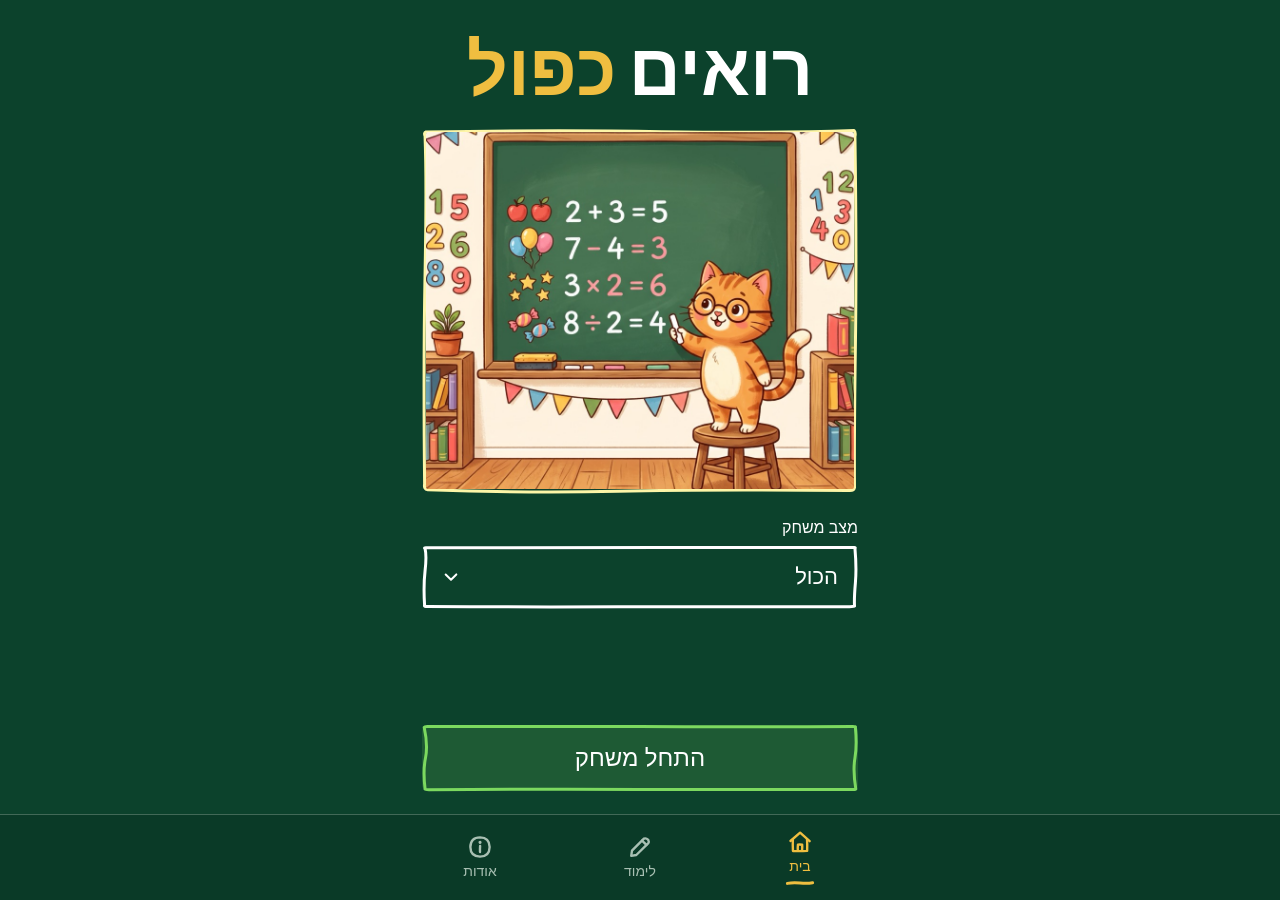
Test case: App shell navigation › opening "לימוד" with no game starts one in the mode picked on home
Select "4" in the dropdown labelled "מצב משחק" at [640, 577], box [422,547,858,607]
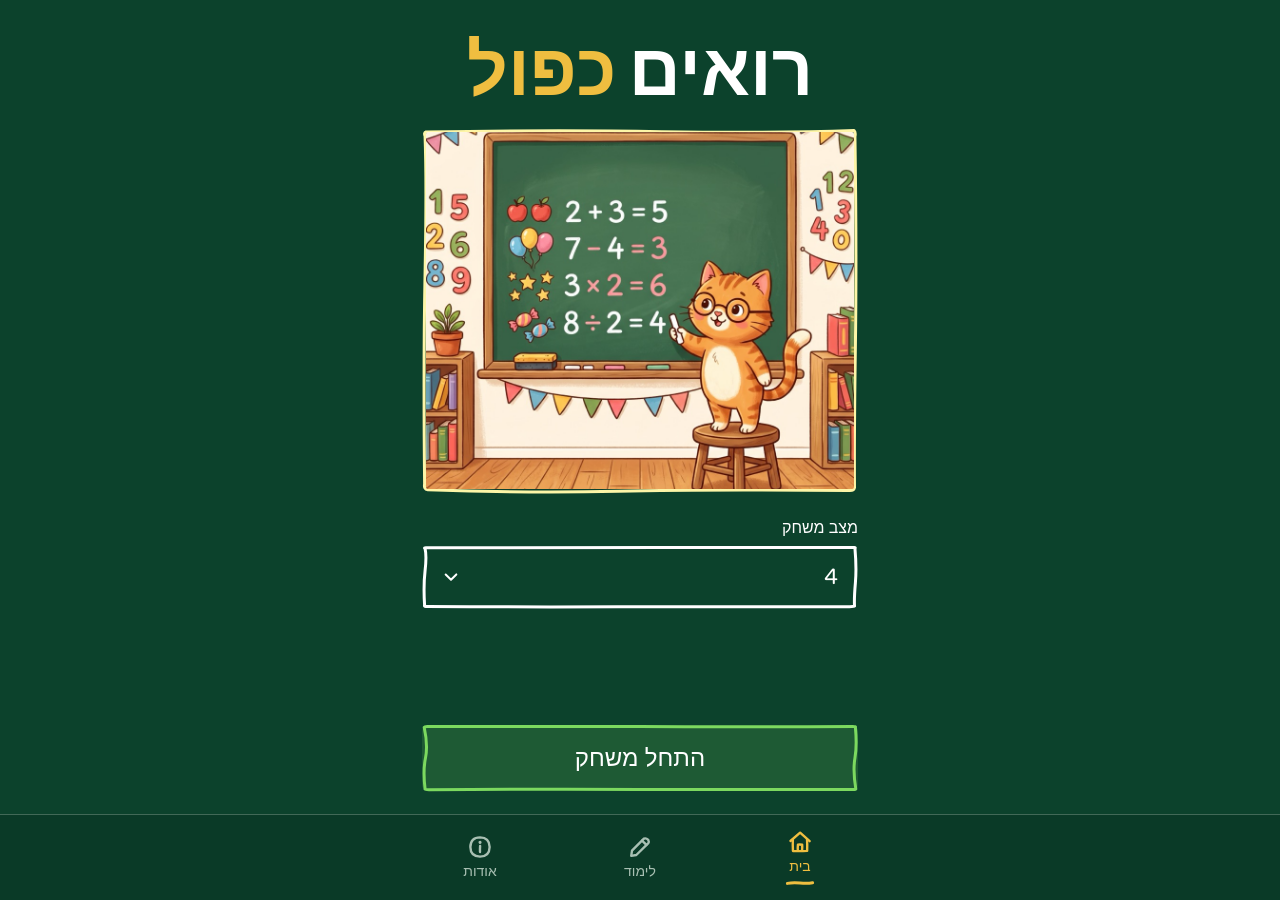
Click the button "לימוד" at [640, 858], box [560,815,720,899]
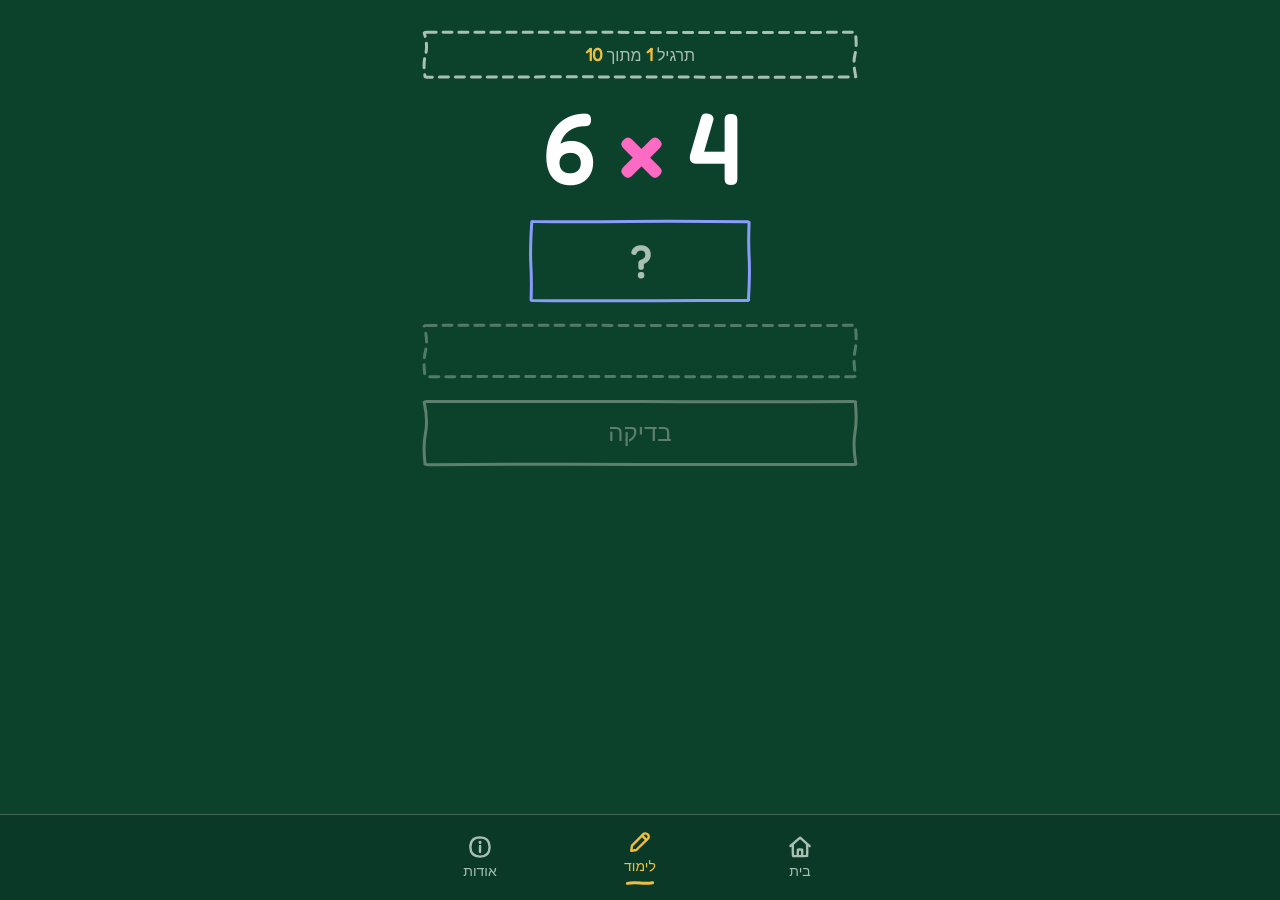
Expected: the text "תרגיל 1 מתוך 10" is shown, [585,43,695,66]
